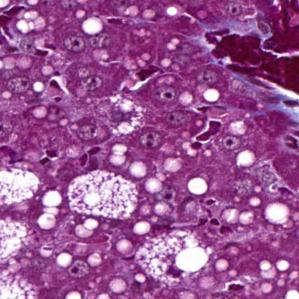ballooning: (134, 225, 211, 286), (67, 169, 139, 222)
